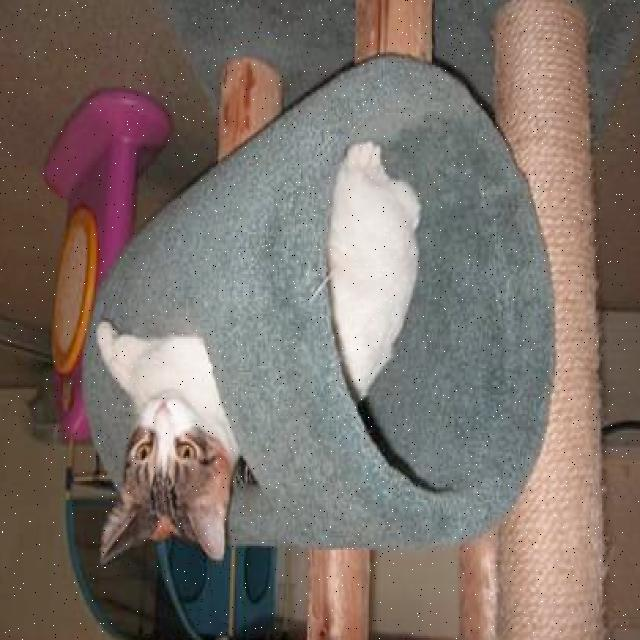Cat: (101, 368, 248, 561)
